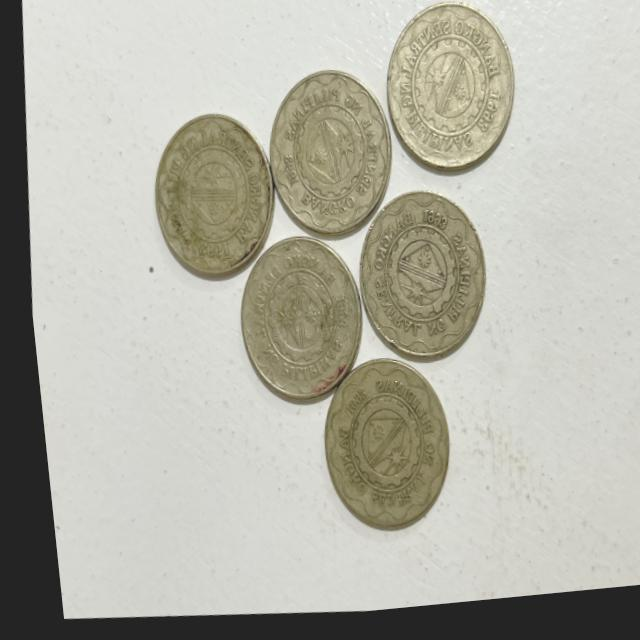5_Old_Back: (375, 0, 523, 190), (305, 360, 450, 543), (262, 65, 399, 253), (346, 194, 488, 366), (227, 241, 364, 412), (141, 111, 279, 278)
